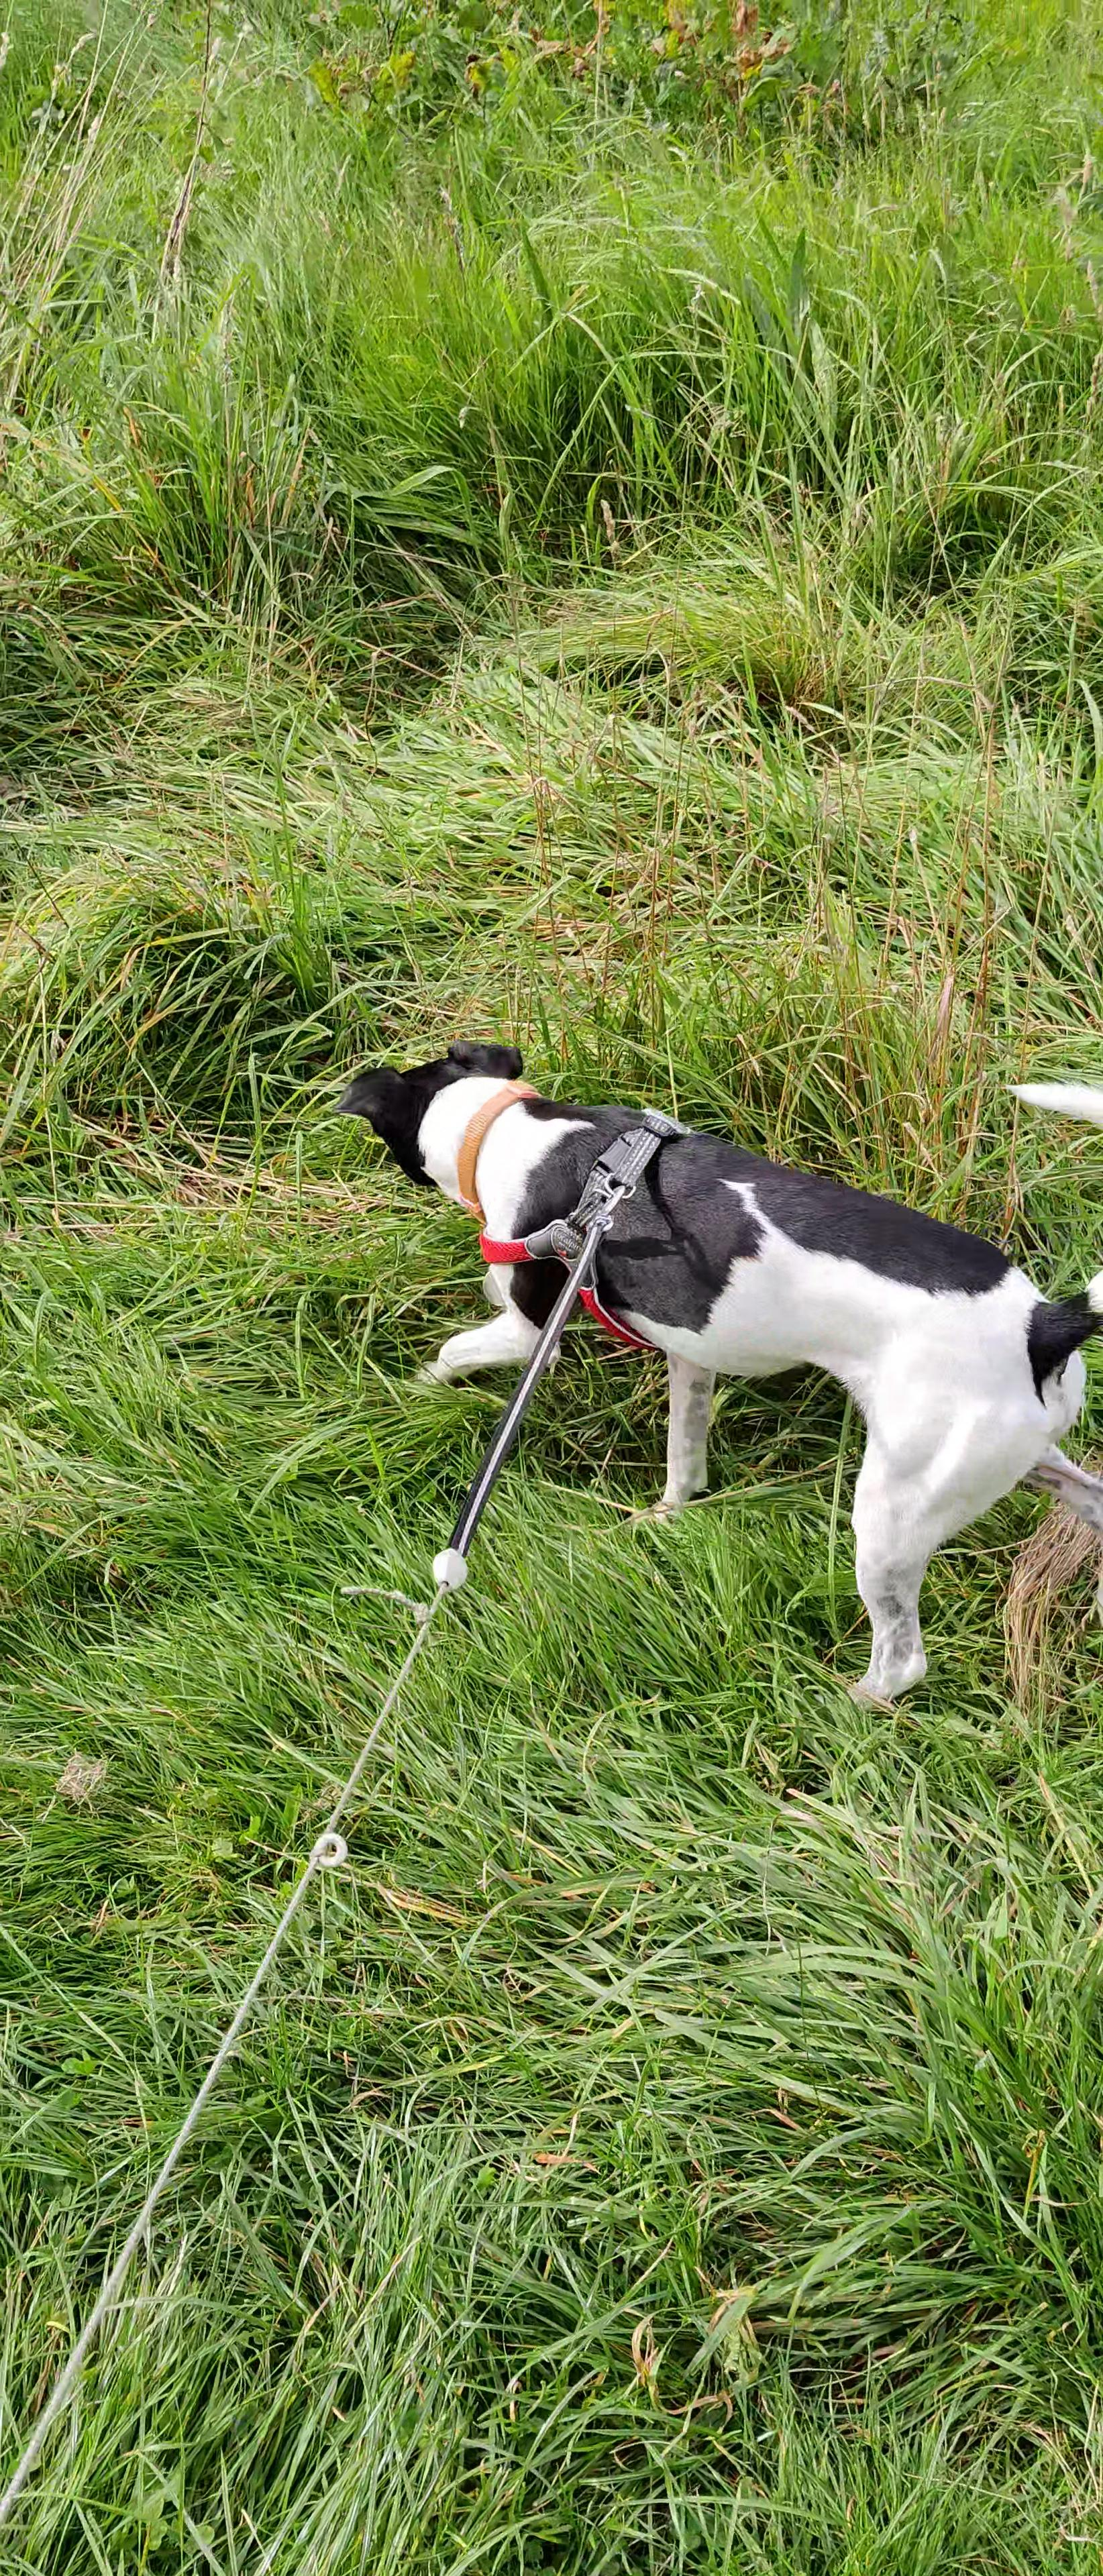Dog: (322, 1038, 1103, 1709)
